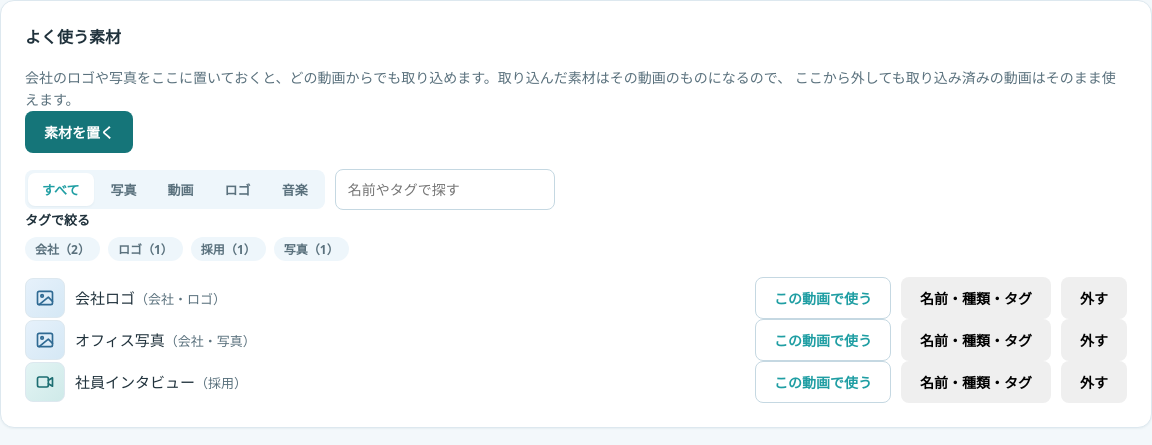
it: AssetLibraryPanel › 絞り込みで0件のときは、条件を変えるよう案内する
expect the text "会社ロゴ" is shown: met, box [75,288,135,308]
Type "存在しない" into the search field named "よく使う素材を名前やタグで探す" at [445, 190], box [335,169,555,210]
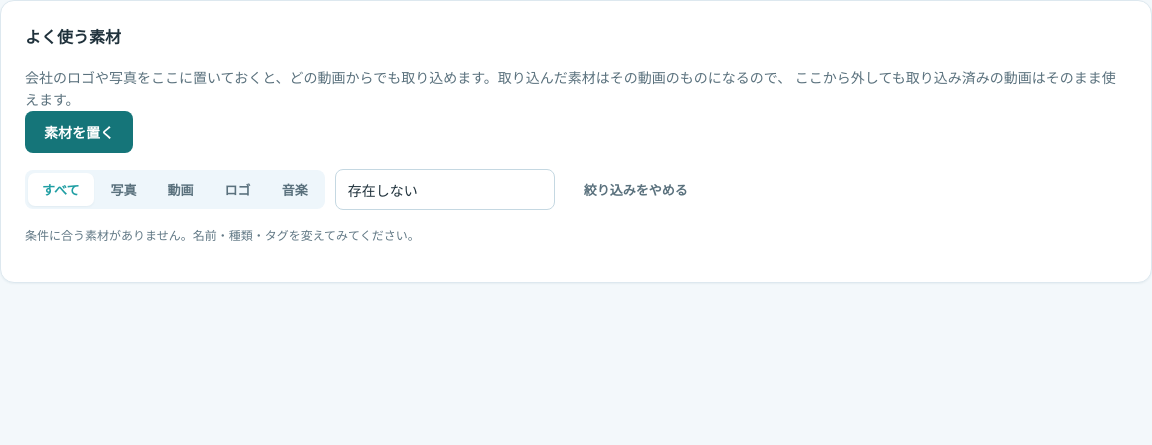
expect the text "条件に合う素材がありません。名前・種類・タグを変えてみてください。" is shown: met, box [25,227,420,244]
